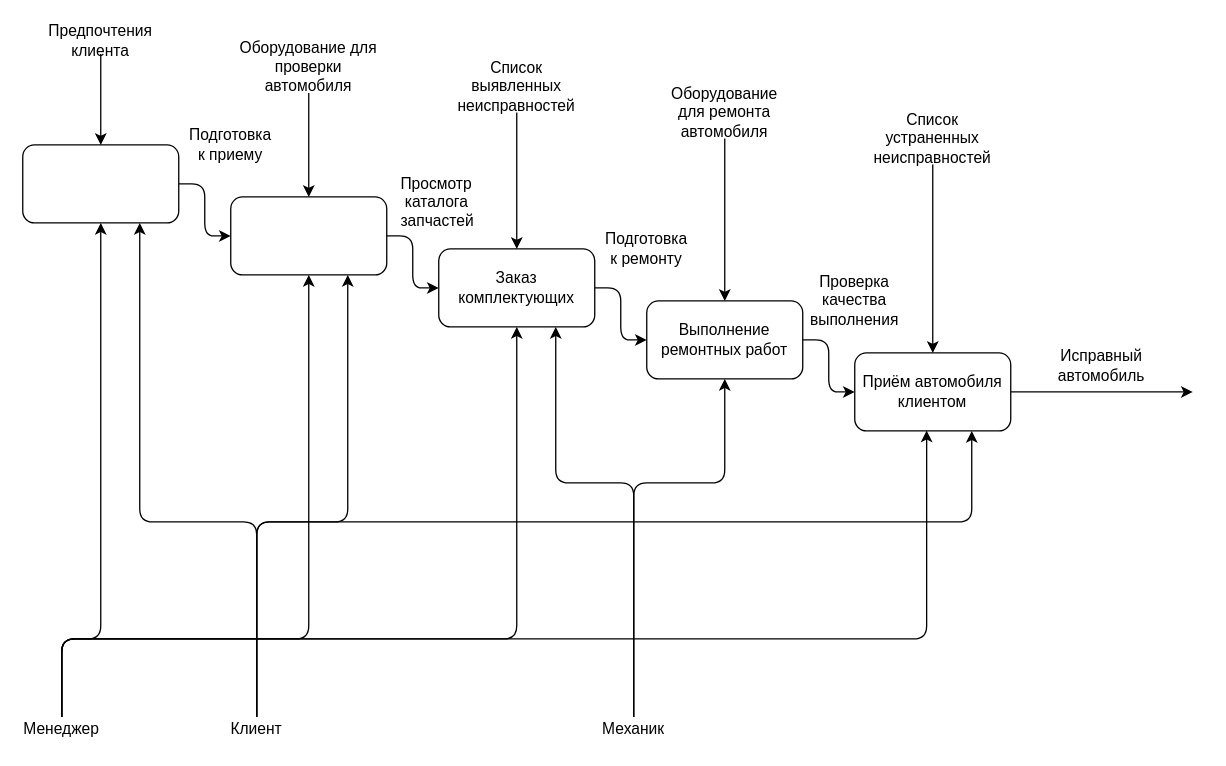
Some shapes in this 1226 by 766 pixel diagram are drawn without their labels. Each missing label, with the centre of its shape:
"Прием автомобиля" goes at point 308,235.
"Прием заказа" goes at point 100,183.
